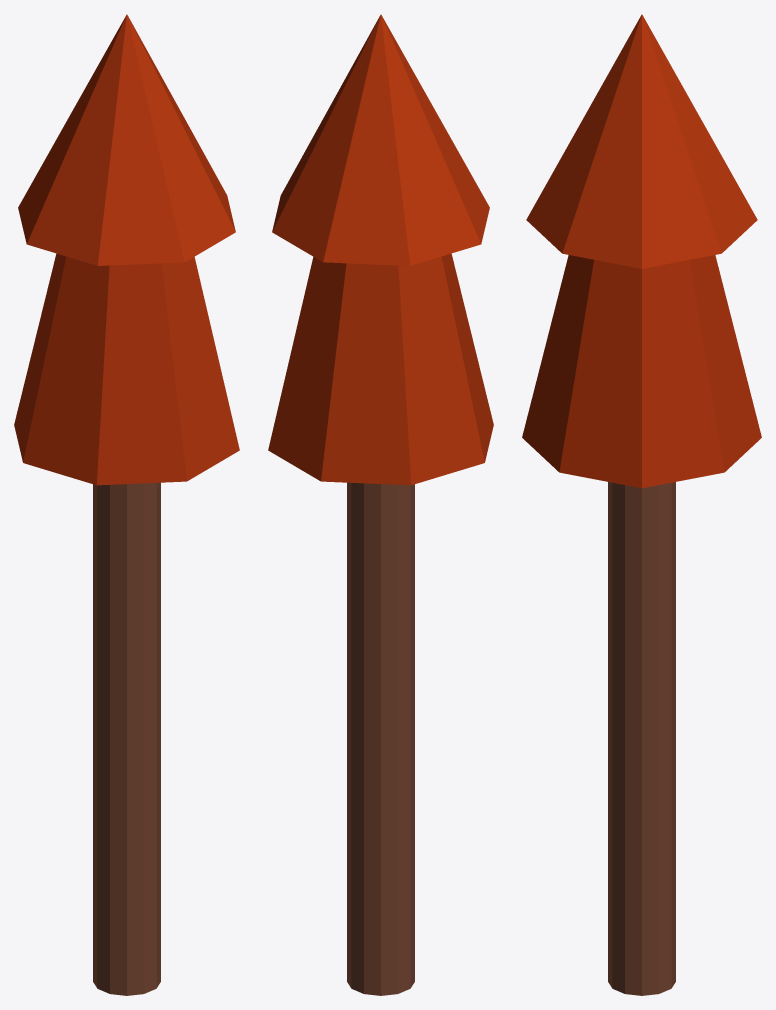
File: Tree_21_summer_red_vc.fbx
3 views of the same model, side by side, from view 1: azimuth 30°, elevation 25°; view 2: azimuth 150°, elevation 25°; view 3: azimuth 270°, elevation 25° (orthographic).
Parts seen in each view (by area): view 1: Tree_21_summer_red_vc; view 2: Tree_21_summer_red_vc; view 3: Tree_21_summer_red_vc.
Part boxes in pixels (x1,y1,x2,y2): Tree_21_summer_red_vc: (14, 14, 239, 995); Tree_21_summer_red_vc: (268, 14, 493, 995); Tree_21_summer_red_vc: (522, 14, 761, 995).
Size of the model in its own units: 77.92 by 347 by 77.92.
